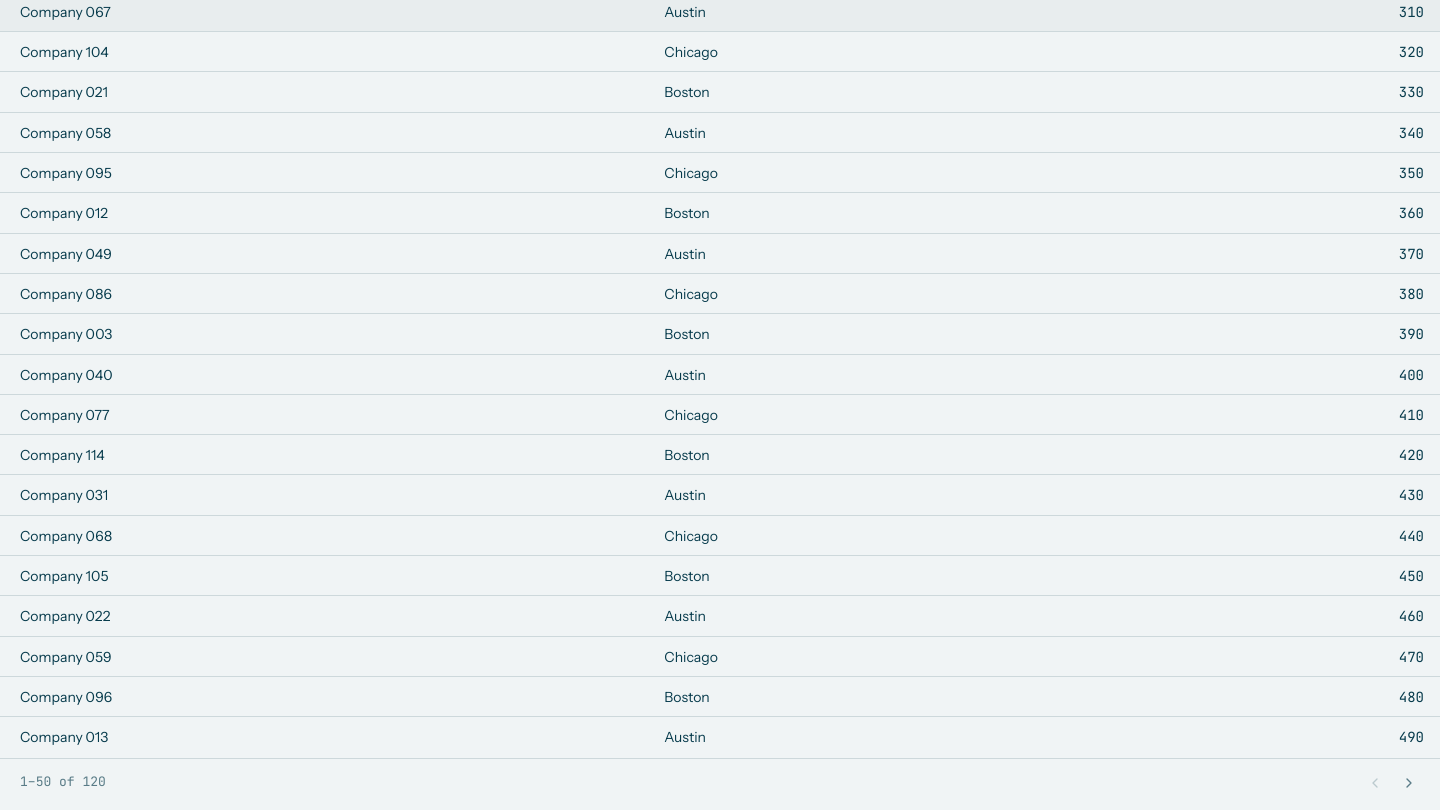
Scenario: DataTable › shows 50 rows to a page with a count
(page scrolled)
Check: the text "1–50 of 120" is shown, box [20,773,106,792]
Check: the button named "Previous page" is disabled, box [1360,768,1390,798]
Click the button named "Next page".
click(1409, 782)  # box [1394,768,1424,798]
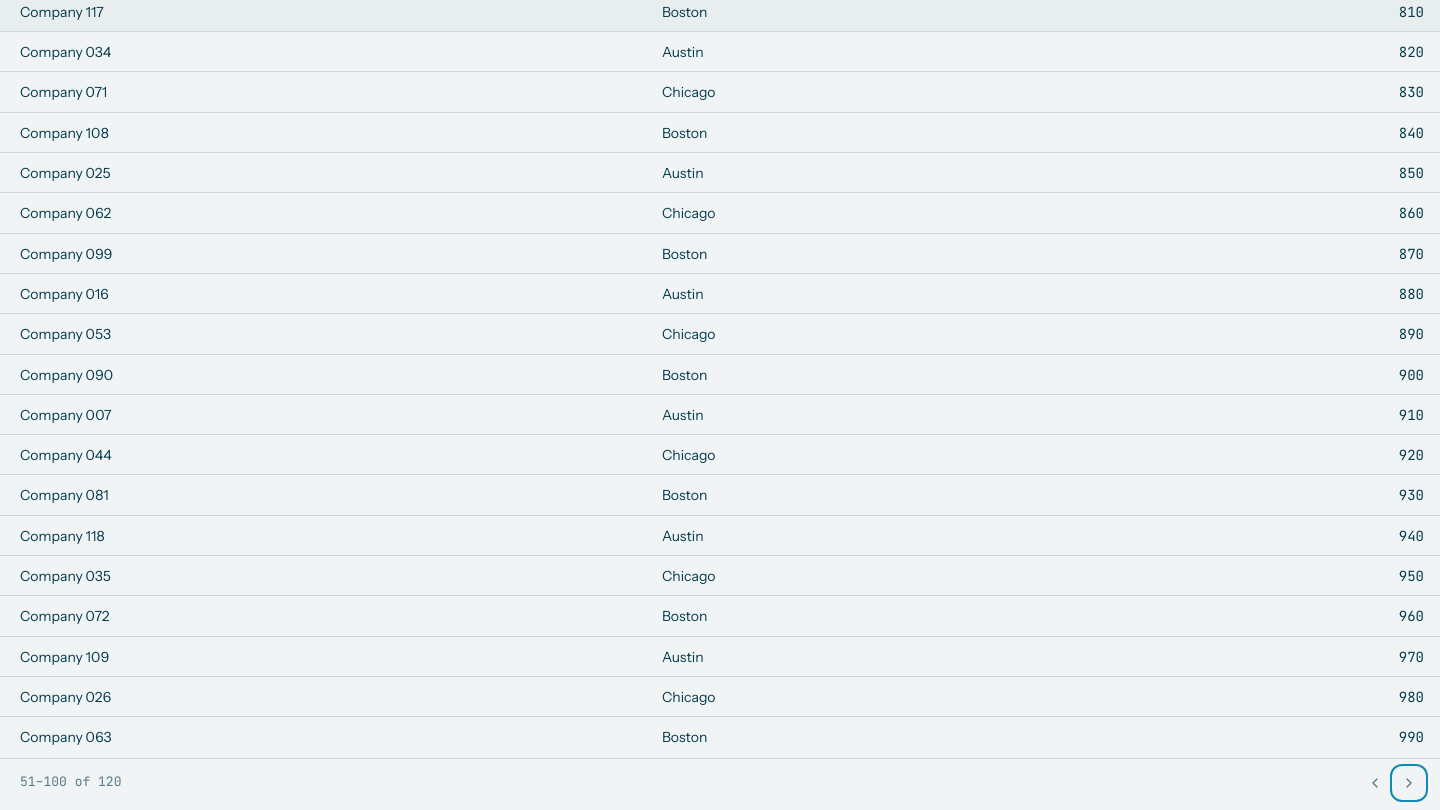
Check: the text "51–100 of 120" is shown, box [20,773,121,792]
Click the button named "Next page".
click(1409, 782)  # box [1394,768,1424,798]
(page scrolled)
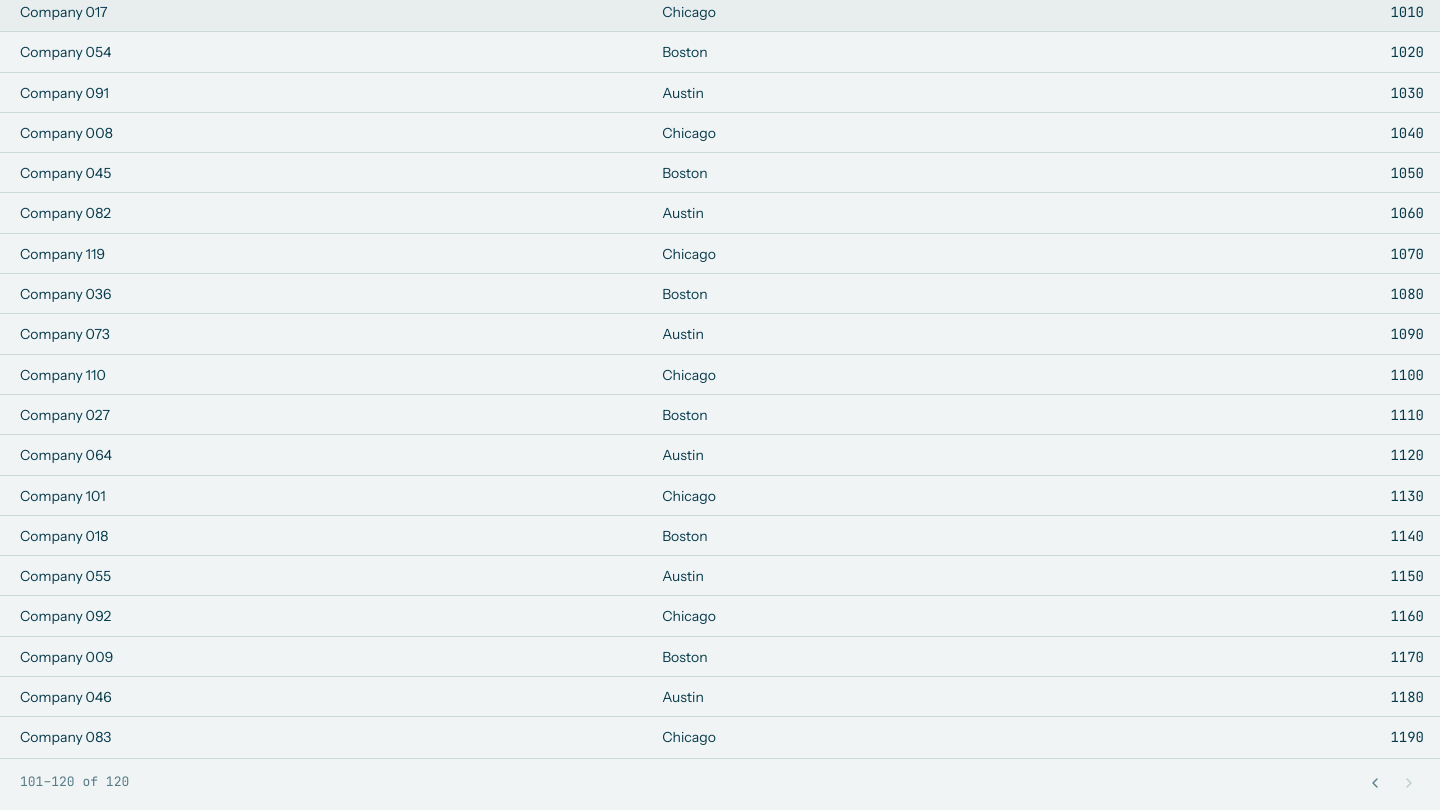
Check: the text "101–120 of 120" is shown, box [20,773,129,792]
